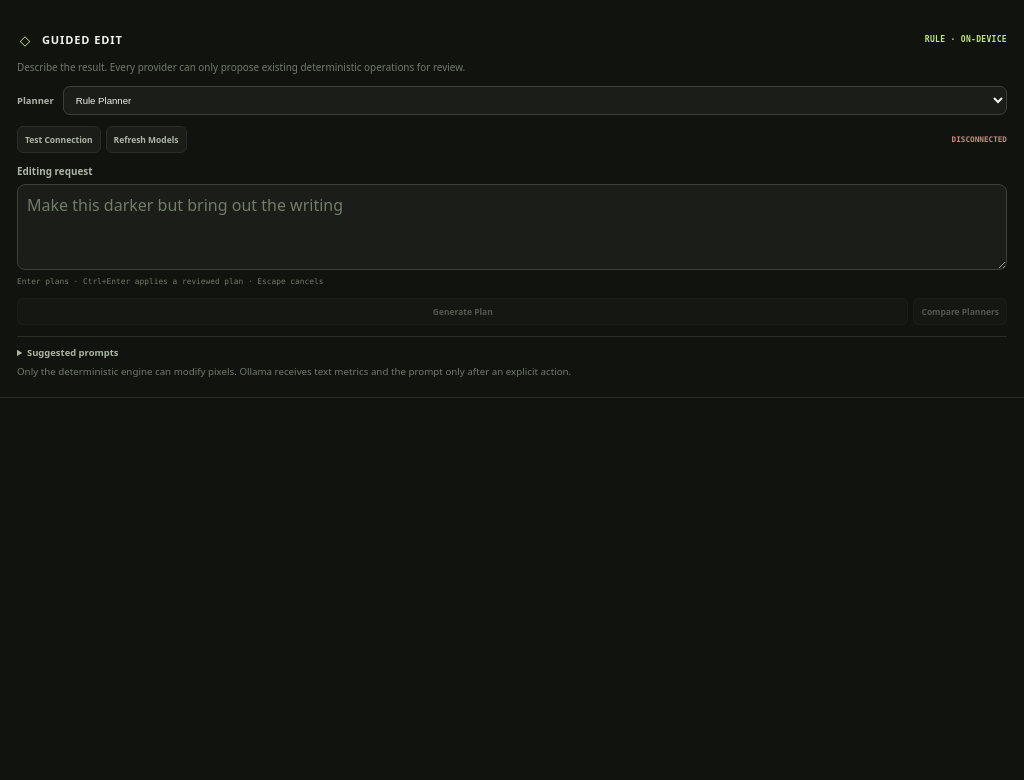
it: GuidedEditPanel › generates a plan with Enter and shows explainable operations
In the text box labelled "Editing request": [512, 227] box [17, 184, 1007, 270], type "Reduce noise and sharpen slightly"
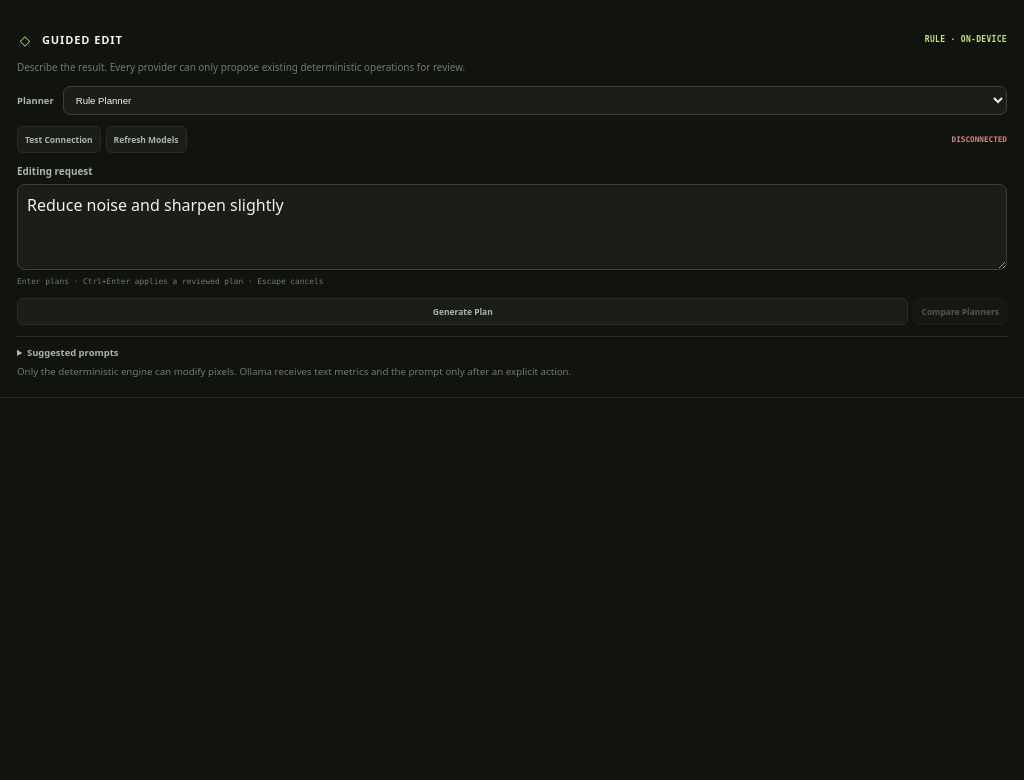
Press Enter in the text box labelled "Editing request", box [17, 184, 1007, 270]
(page scrolled)
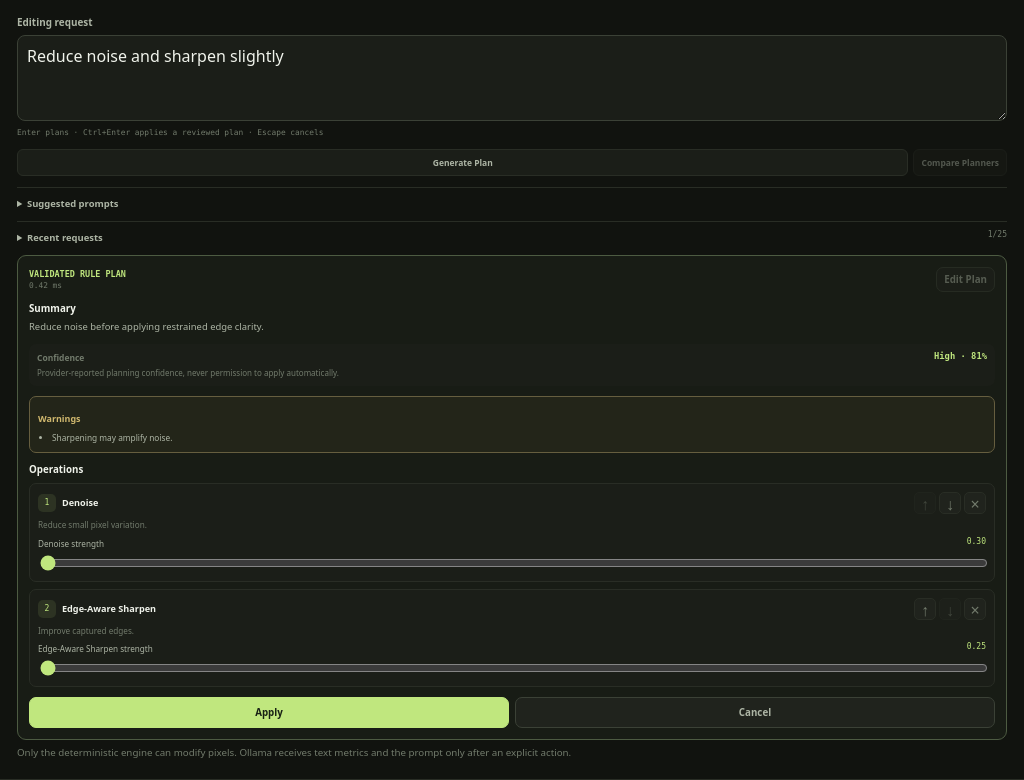
Result: the text "Reduce noise before applying restrained edge clarity." is shown at [29, 320, 264, 333]
Result: the text "Denoise" is shown at [62, 496, 98, 509]
Result: the text "Improve captured edges." is shown at [38, 624, 134, 636]
